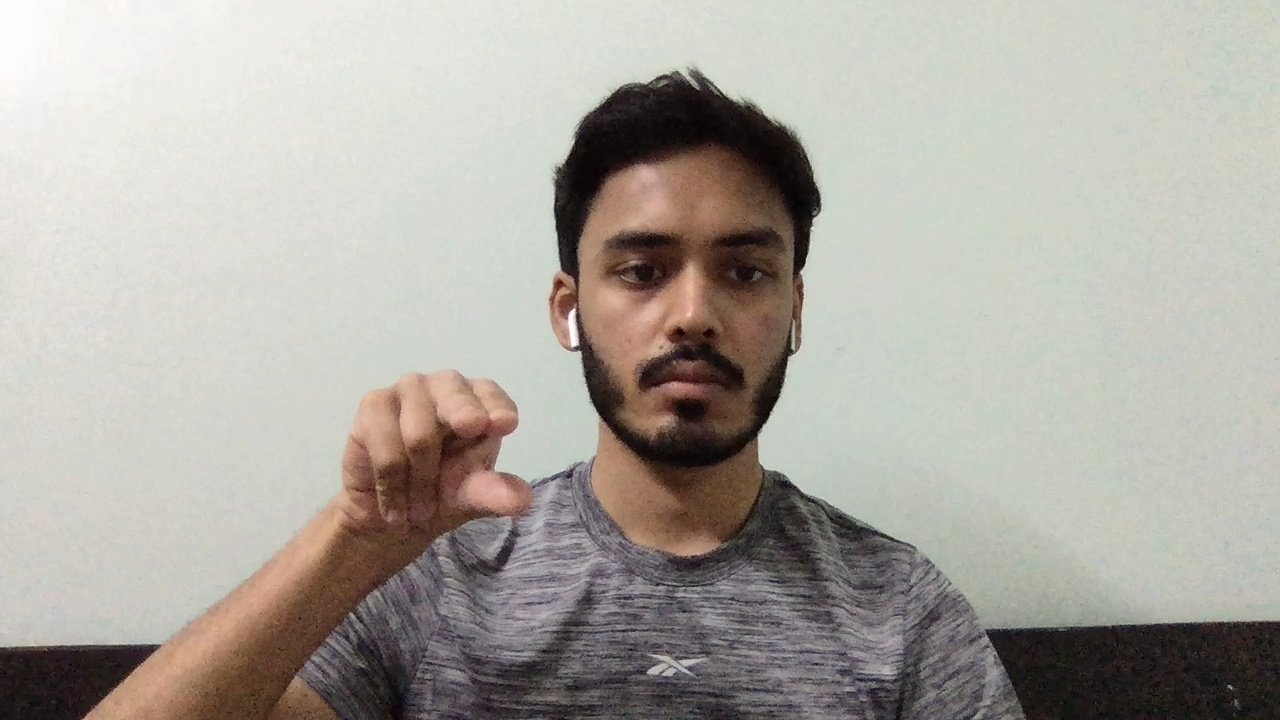No: (320, 360, 555, 547)
